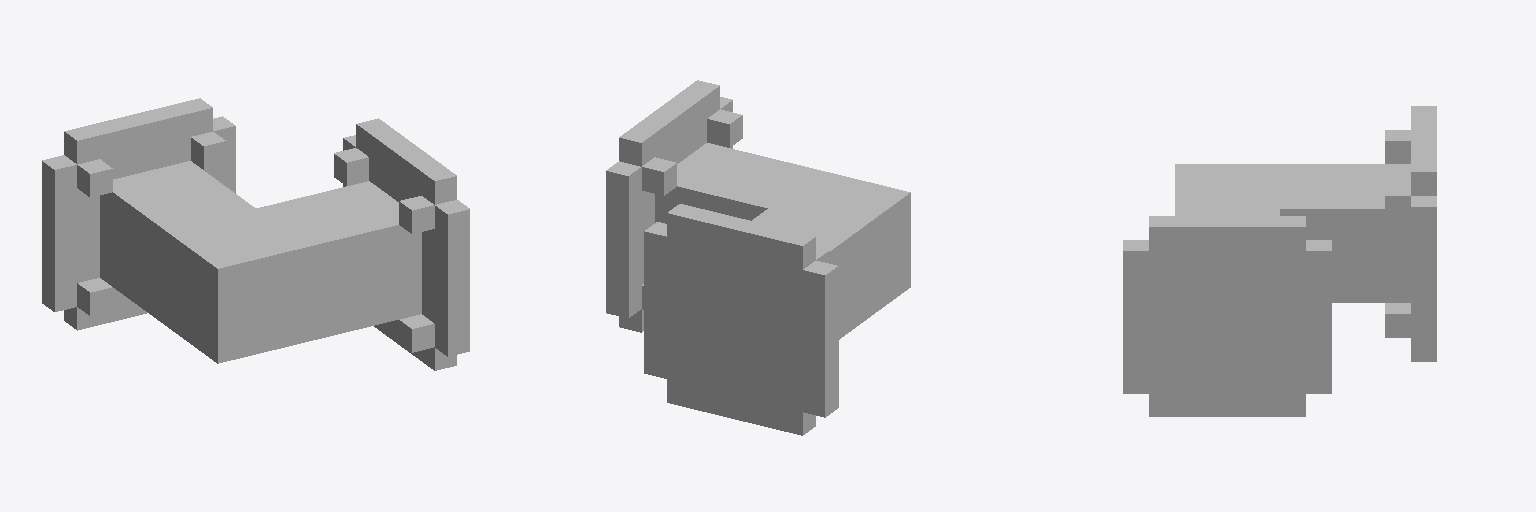
The model's file is Menu Scene 03-48.obj.
The picture shows the model from 3 angles: view 1: azimuth 30°, elevation 25°; view 2: azimuth 150°, elevation 25°; view 3: azimuth 270°, elevation 25°; orthographic projection.
Visible parts, largest first — view 1: Menu Scene 03-48; view 2: Menu Scene 03-48; view 3: Menu Scene 03-48.
Part boxes in pixels (x1,y1,x2,y2): Menu Scene 03-48: (42, 98, 469, 370); Menu Scene 03-48: (606, 80, 910, 435); Menu Scene 03-48: (1123, 106, 1436, 416).
Bounding box in the file's own units: 12 × 8 × 12.